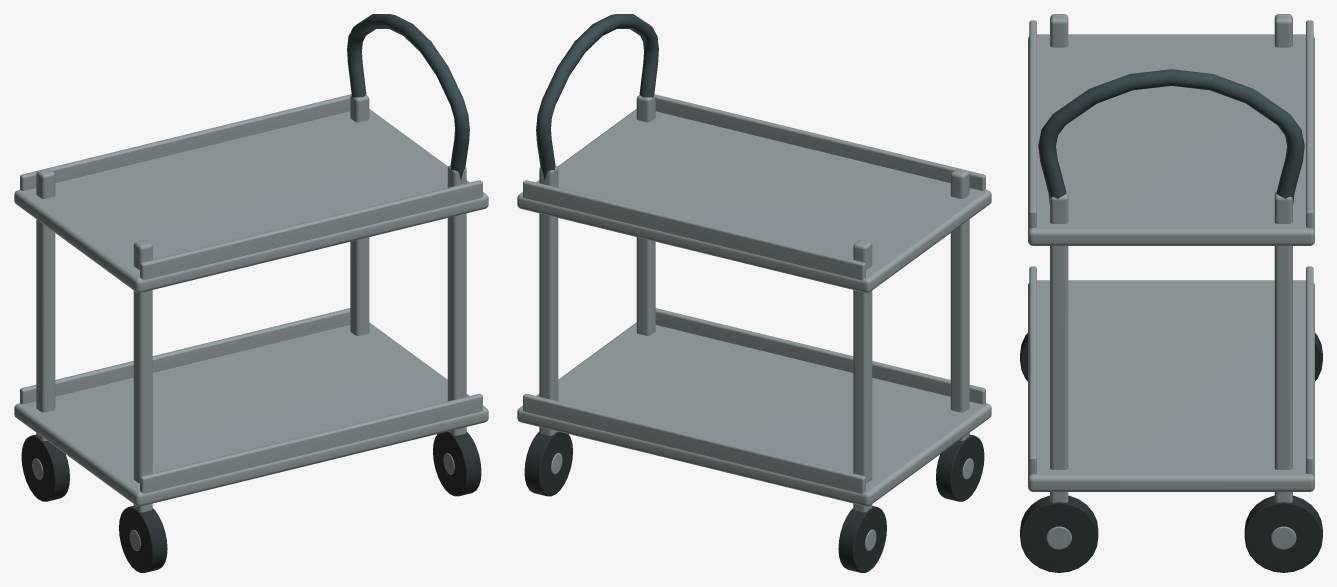
File: HotelTogether-DishCart.glb
3 views of the same model, side by side, from view 1: azimuth 30°, elevation 25°; view 2: azimuth 150°, elevation 25°; view 3: azimuth 270°, elevation 25° (orthographic). The views are drawn at different scales.
Visible parts, largest first — view 1: Cart_Shelf.001, Cart_Shelf, Cart_Lip, Cart_Lip.002, Cart_Lip.003, Cart_Lip.001, Cart_PushHandle, Cart_Post.001, Cart_Post, Cart_Post.002, Cart_Wheel, Cart_Post.003 (+2 smaller); view 2: Cart_Shelf.001, Cart_Shelf, Cart_Lip.001, Cart_Lip.003, Cart_Lip.002, Cart_Lip, Cart_PushHandle, Cart_Post, Cart_Post.001, Cart_Post.003, Cart_Wheel.001, Cart_Post.002 (+2 smaller); view 3: Cart_Shelf, Cart_Shelf.001, Cart_PushHandle, Cart_Post.002, Cart_Post.003, Cart_Wheel.002, Cart_Wheel.003, Cart_Lip, Cart_Lip.001, Cart_Lip.002, Cart_Lip.003, Cart_Post (+3 smaller).
Boxes of the visible parts, x1,y1,x2,y2 form: Cart_Shelf.001: (14,109,488,292); Cart_Shelf: (14,322,488,506); Cart_Lip: (140,393,482,493); Cart_Lip.002: (140,180,482,280); Cart_Lip.003: (20,94,351,190); Cart_Lip.001: (20,308,350,404); Cart_PushHandle: (347,14,469,180); Cart_Post.001: (36,168,55,440); Cart_Post: (133,240,152,512); Cart_Post.002: (447,165,466,435); Cart_Wheel: (119,506,167,572); Cart_Post.003: (350,95,369,335); Cart_Shelf.001: (517,109,991,292); Cart_Shelf: (517,322,991,506); Cart_Lip.001: (523,393,865,493); Cart_Lip.003: (523,180,865,280); Cart_Lip.002: (654,94,985,190); Cart_Lip: (655,308,985,404); Cart_PushHandle: (536,14,658,180); Cart_Post: (950,168,969,440); Cart_Post.001: (853,240,872,512); Cart_Post.003: (539,165,558,435); Cart_Wheel.001: (838,506,886,572); Cart_Post.002: (636,95,655,335); Cart_Shelf: (1028,280,1314,491); Cart_Shelf.001: (1028,34,1314,245); Cart_PushHandle: (1038,69,1304,204); Cart_Post.002: (1050,191,1068,502); Cart_Post.003: (1274,191,1292,502); Cart_Wheel.002: (1020,495,1098,572); Cart_Wheel.003: (1244,495,1322,572); Cart_Lip: (1029,266,1036,474); Cart_Lip.001: (1306,266,1313,474); Cart_Lip.002: (1029,20,1036,228); Cart_Lip.003: (1306,20,1313,228); Cart_Post: (1050,14,1068,47).
Bounding box in the file's own units: 0.9 × 1.06 × 0.58.
